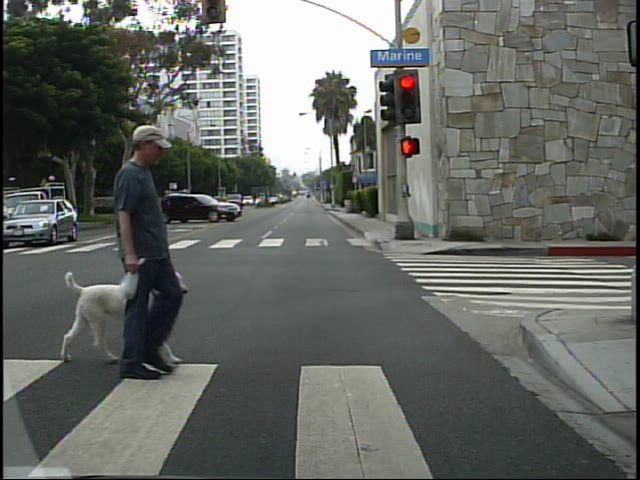person: (97, 115, 186, 382)
